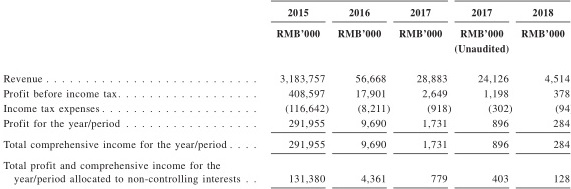column: (3, 1, 256, 189), (454, 1, 513, 189), (338, 1, 391, 189), (277, 1, 329, 189), (399, 1, 451, 189), (522, 1, 571, 187)
row: (3, 7, 571, 18), (3, 104, 571, 115), (3, 74, 571, 84), (4, 29, 571, 39), (3, 119, 571, 128), (3, 140, 571, 149), (4, 174, 571, 183), (5, 44, 571, 53), (4, 90, 571, 97), (4, 162, 563, 169)
